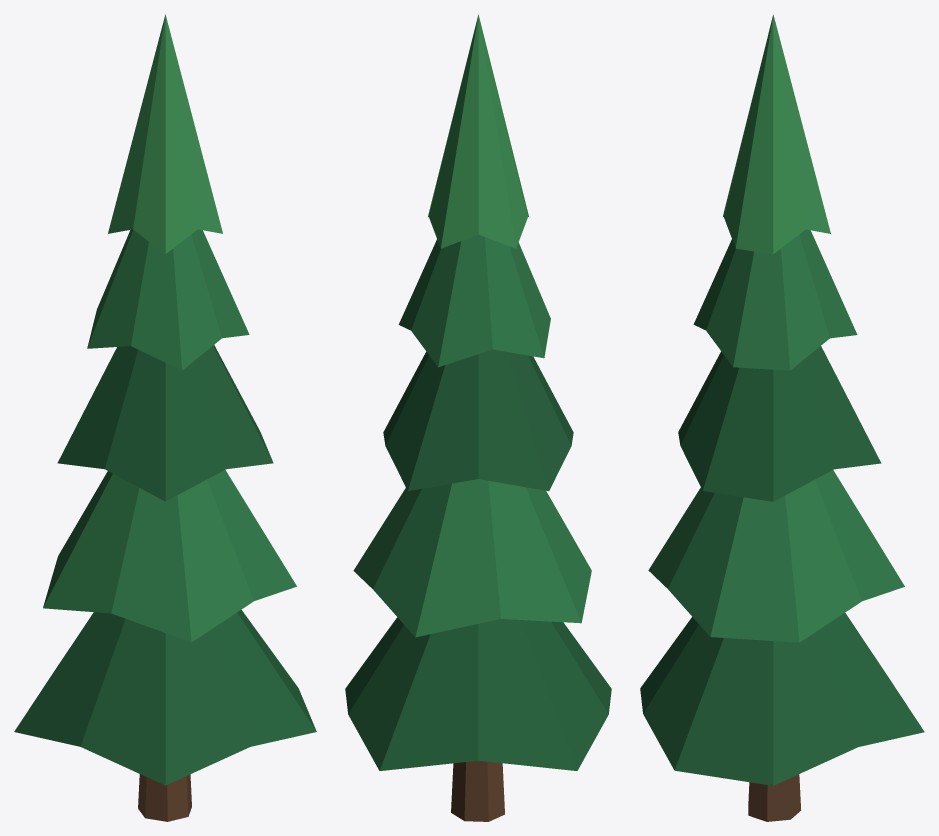
The model's file is pine.glb.
The picture shows the model from 3 angles, left to right: view 1: azimuth 30°, elevation 25°; view 2: azimuth 150°, elevation 25°; view 3: azimuth 270°, elevation 25°; orthographic projection.
Visible parts, largest first — view 1: pine; view 2: pine; view 3: pine.
Part boxes in pixels (x1,y1,x2,y2): pine: (14,14,316,821); pine: (345,14,611,821); pine: (640,14,924,821).
Bounding box in the file's own units: 4.07 × 12 × 3.89.
